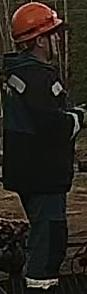helmet: (10, 1, 63, 43)
vest: (1, 52, 76, 194)
